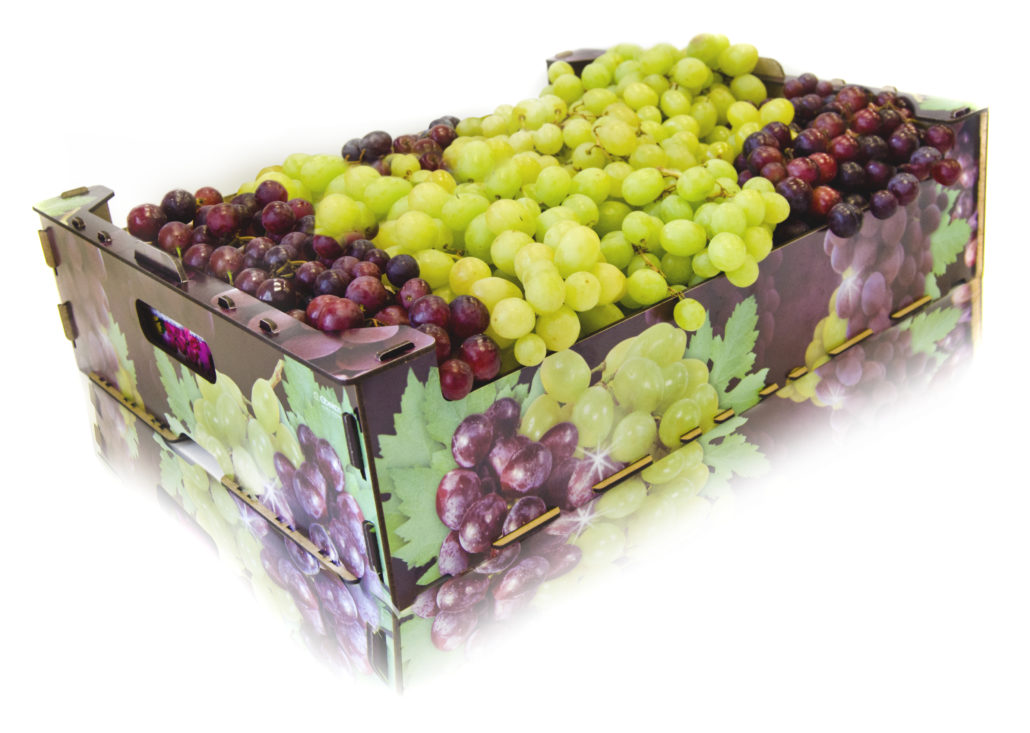Green grapes: (380, 177, 727, 303)
